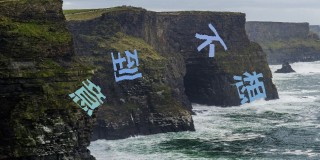不: (195, 23, 227, 59)
到: (109, 49, 144, 83)
想: (234, 70, 268, 107)
意: (68, 76, 105, 117)
